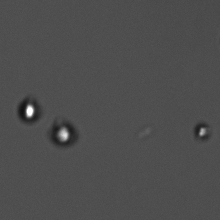Living Cell: (47, 117, 78, 150), (18, 94, 41, 124), (191, 119, 213, 142)
